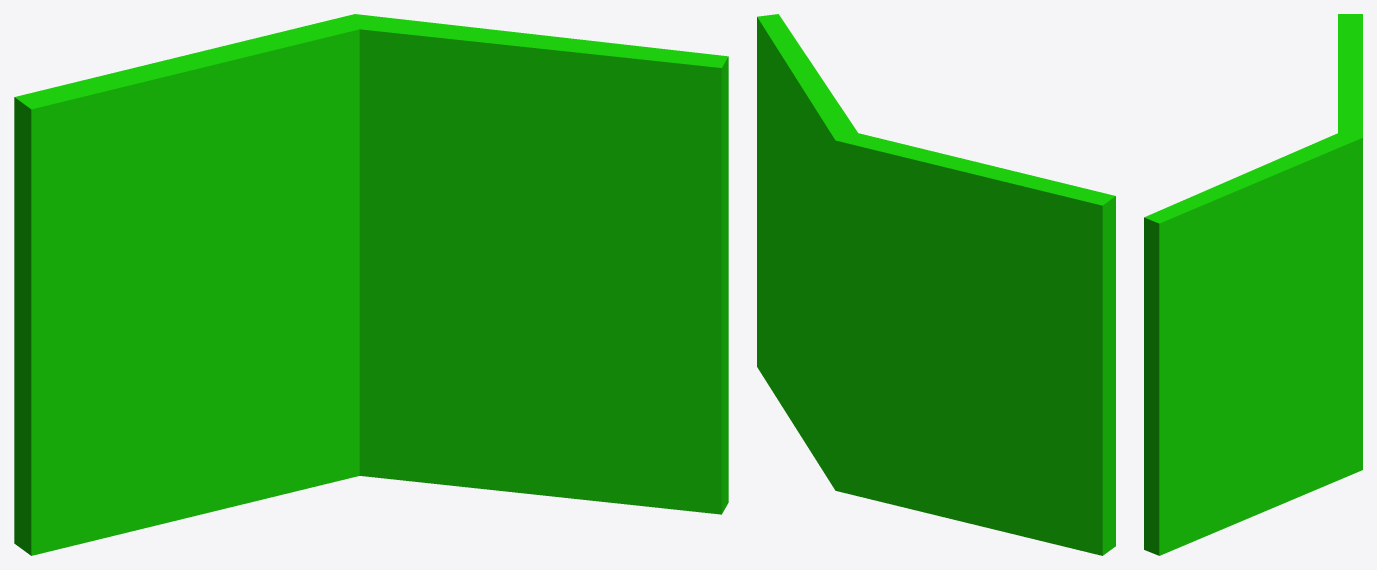
Rendered from sm_wall_bent_collider_updated_fixed.fbx.
3 views of the same model, side by side, from view 1: azimuth 30°, elevation 25°; view 2: azimuth 150°, elevation 25°; view 3: azimuth 270°, elevation 25° (orthographic). The views are drawn at different scales.
Visible parts, largest first — view 1: Cube.009; view 2: Cube.009; view 3: Cube.009.
Part boxes in pixels (x1,y1,x2,y2): Cube.009: (14,14,728,555); Cube.009: (757,14,1115,555); Cube.009: (1144,14,1362,555).
Bounding box in the file's own units: 1052 × 778 × 464.
